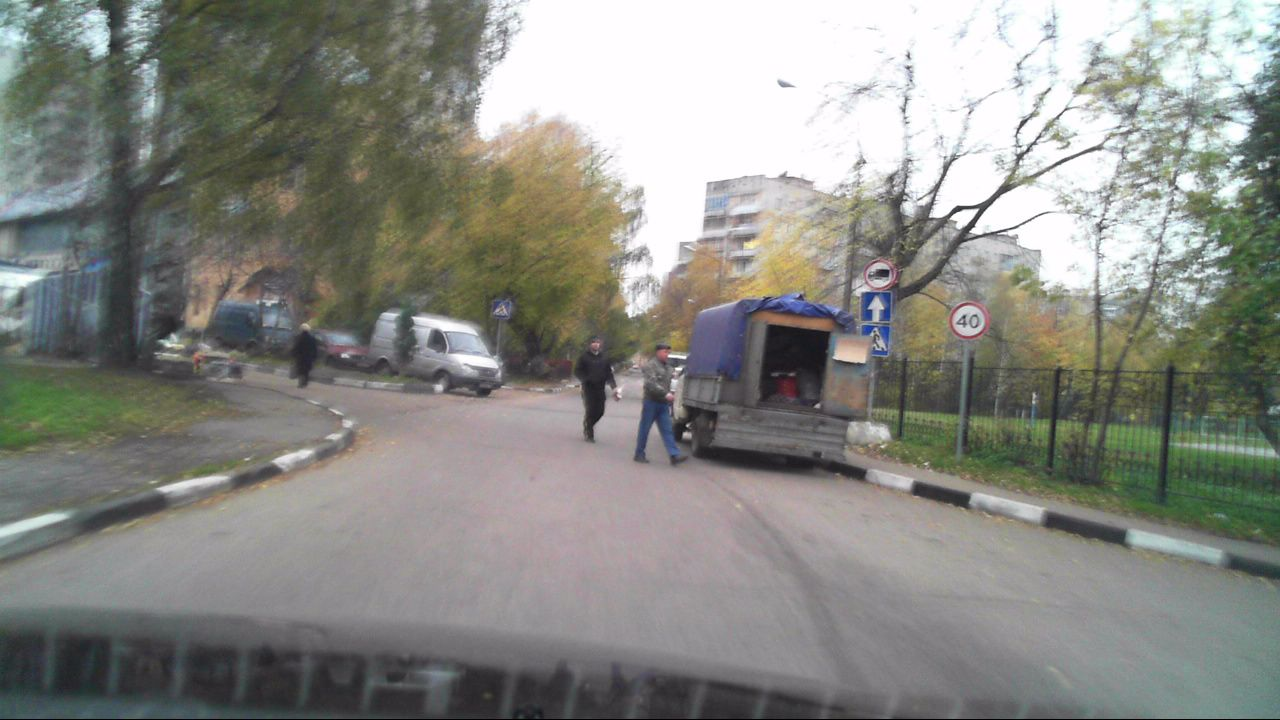speed_warning_40: (950, 303, 986, 340)
